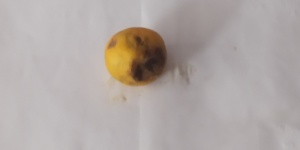BAD: (104, 24, 169, 92)
